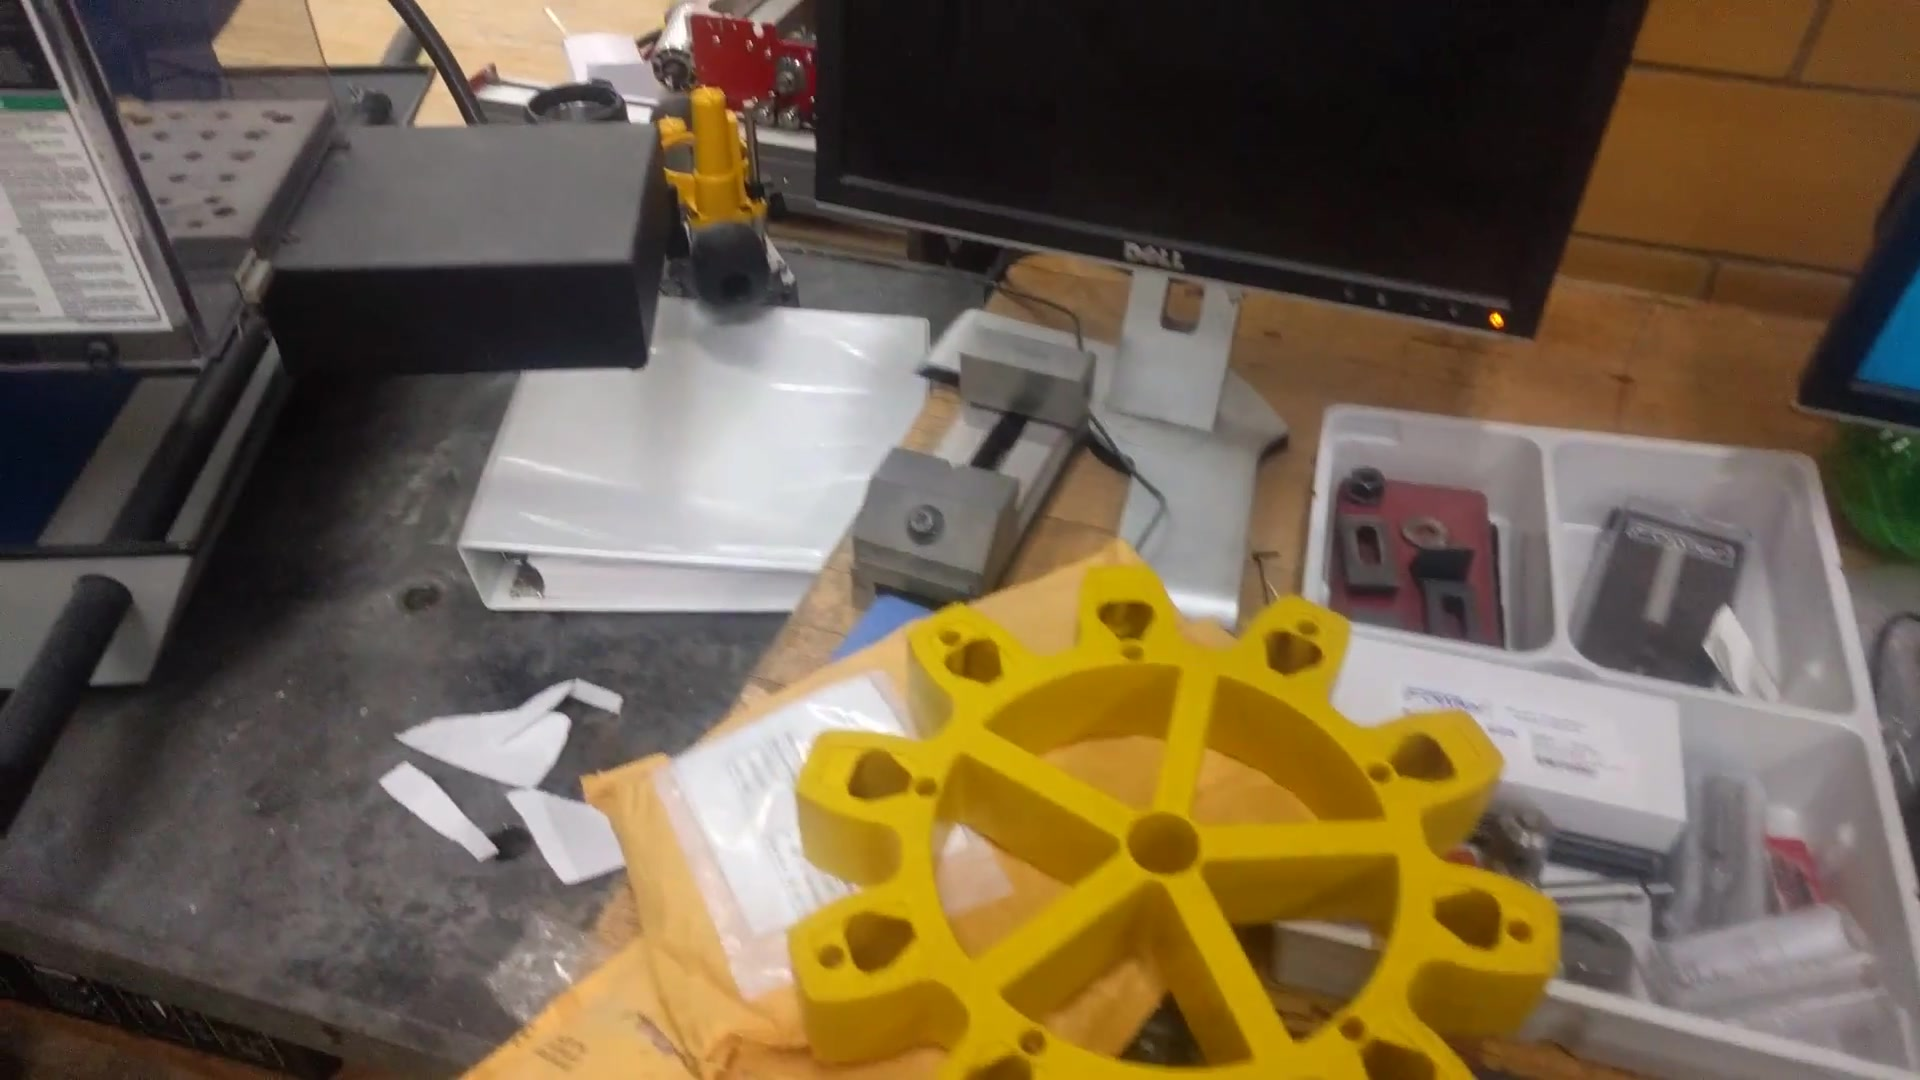gear: (782, 575, 1559, 1080)
